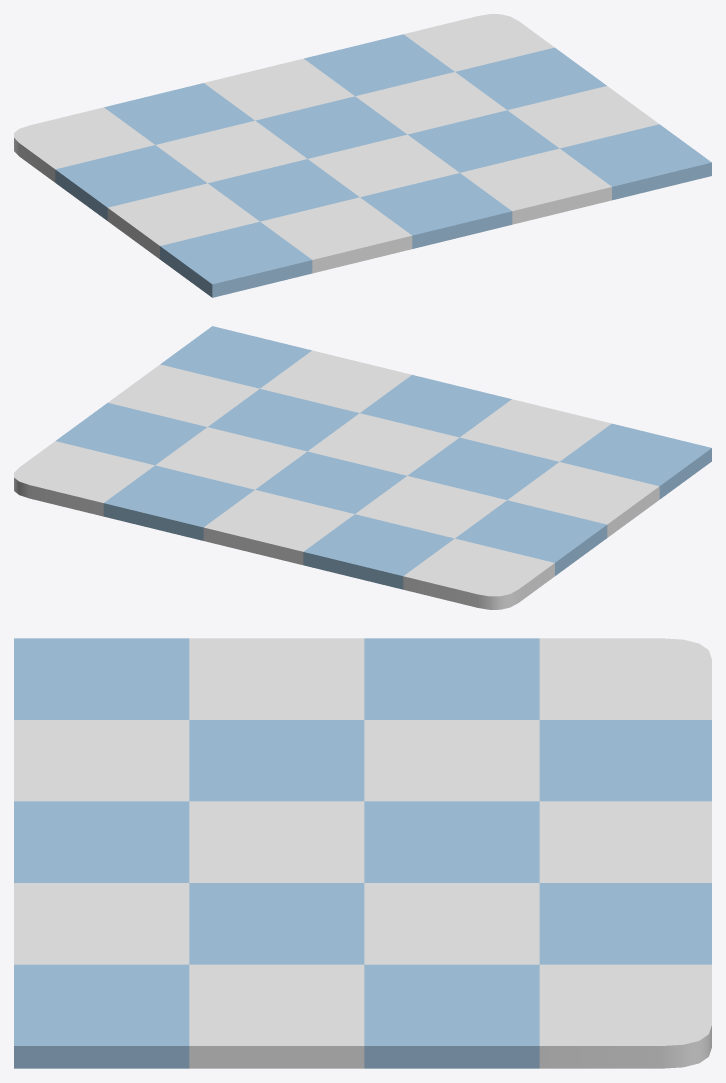
The model's file is tile01_s01.FBX.
3 renders of one model, top to bottom at view 1: azimuth 30°, elevation 25°; view 2: azimuth 150°, elevation 25°; view 3: azimuth 270°, elevation 25°, orthographic. The views are drawn at different scales.
Visible parts, largest first — view 1: tile01_s01; view 2: tile01_s01; view 3: tile01_s01.
Part boxes in pixels (x1,y1,x2,y2): tile01_s01: (14,14,711,297); tile01_s01: (14,326,711,609); tile01_s01: (14,638,711,1068).
Bounding box in the file's own units: 948 × 686 × 24.49.
Materials: 1 (1 with a texture image).
